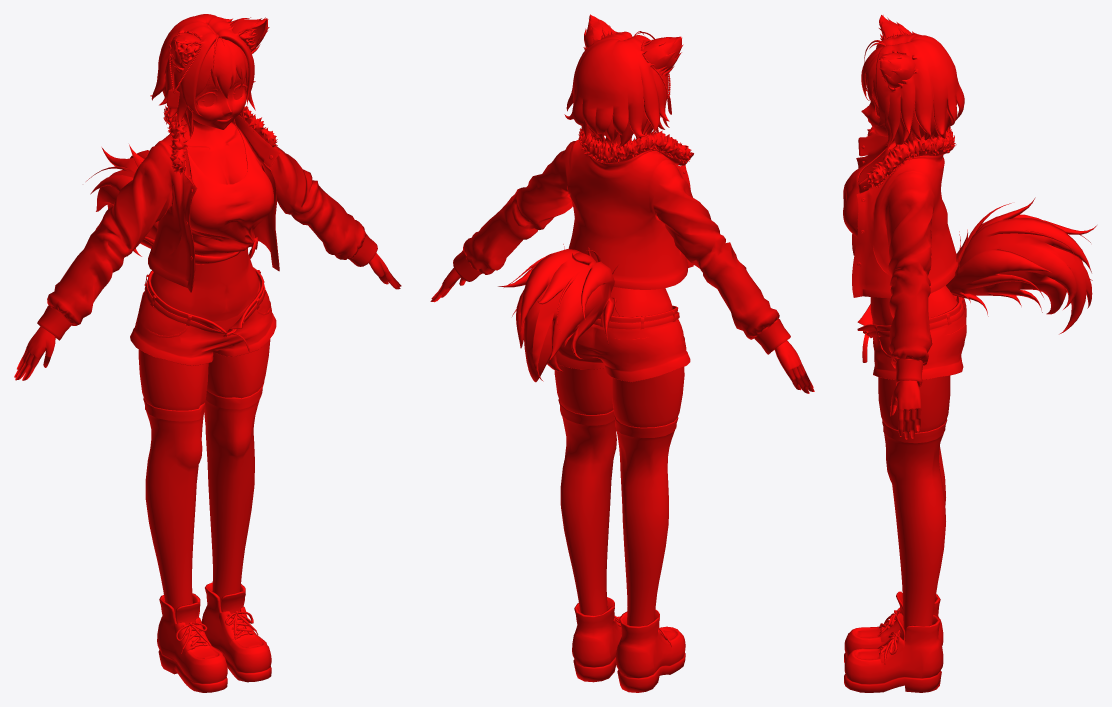
File: shibahu_m2m.glb
3 renders of one model, left to right at view 1: azimuth 30°, elevation 25°; view 2: azimuth 150°, elevation 25°; view 3: azimuth 270°, elevation 25°, orthographic.
Visible parts, largest first — view 1: Shibahu; view 2: Shibahu; view 3: Shibahu.
Part boxes in pixels (box(x1,y1,x2,y2)): Shibahu: box(14, 14, 401, 692); Shibahu: box(430, 14, 814, 692); Shibahu: box(843, 15, 1096, 692).
Size of the model in its own units: 97.82 by 156 by 56.57.
1 material, 1 textured.
